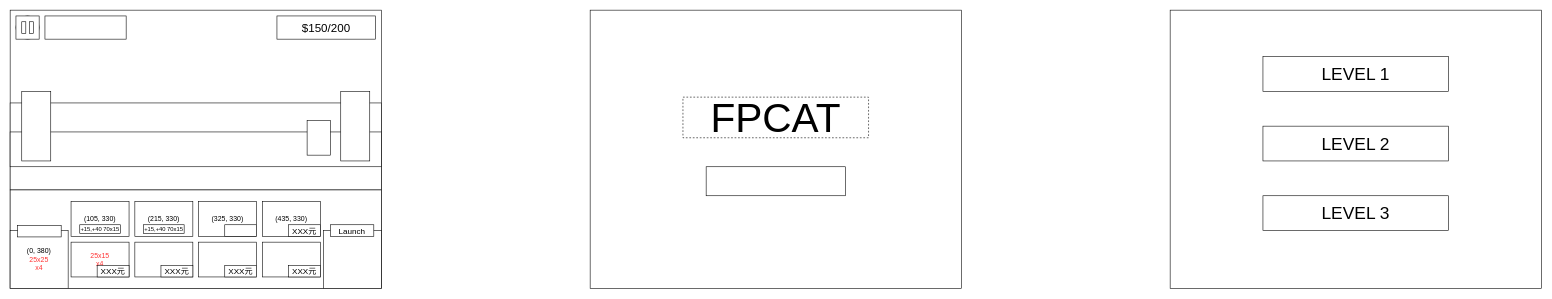
Image size: 1552x299. Some labels were removed from this diagram. Each missing label, with the box of its shape:
$XXX: (224, 224, 257, 236)
(540, 380) 25x25 x4: (323, 230, 381, 289)
GAME START: (706, 166, 845, 196)
Level N: (17, 225, 61, 237)
Level Name: (44, 15, 126, 39)
